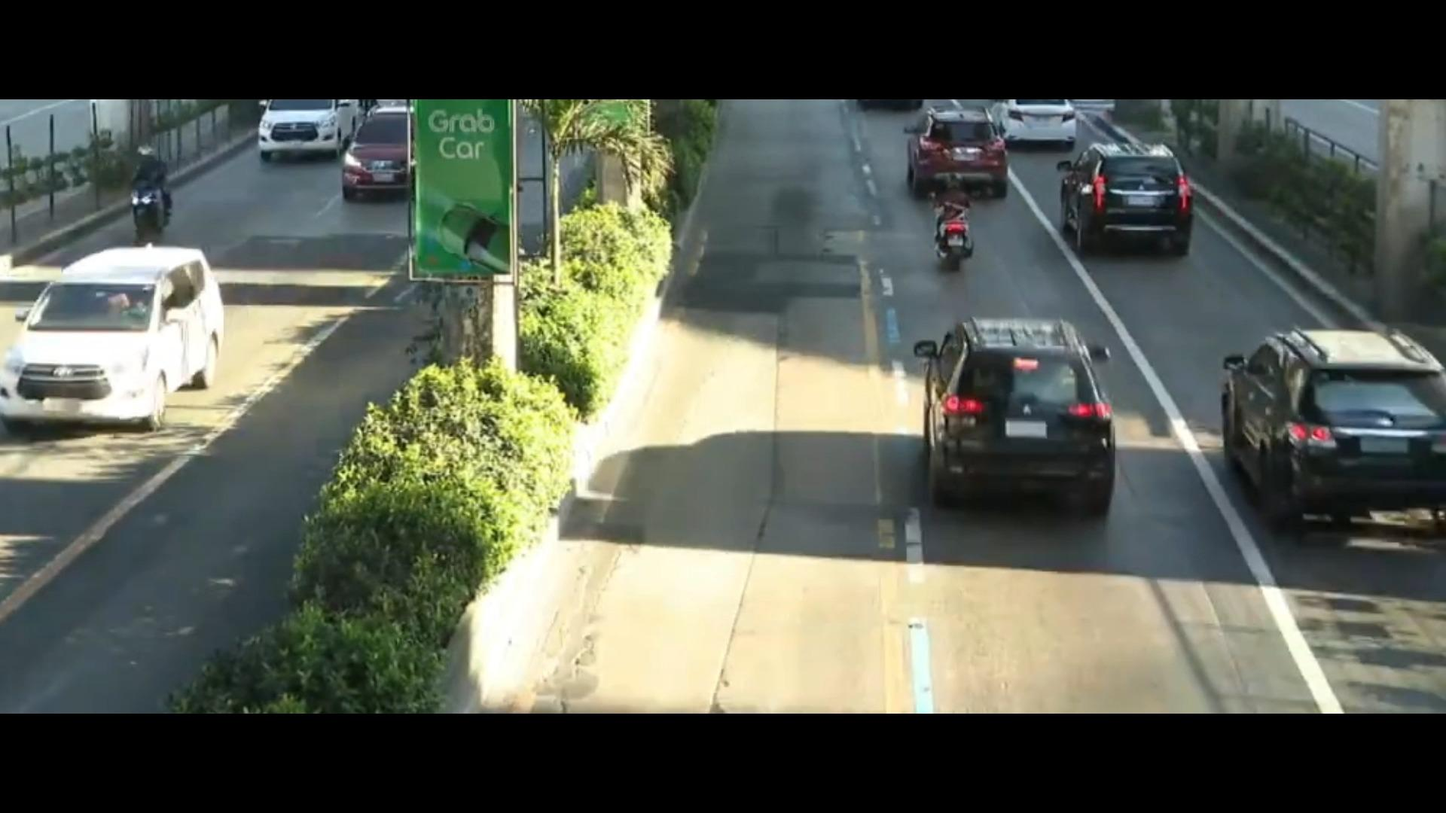Motorcycle: (109, 134, 189, 246), (912, 183, 994, 274)
SUV: (1198, 285, 1446, 559), (888, 281, 1147, 524), (0, 234, 255, 456), (1051, 130, 1224, 264), (889, 108, 1013, 188), (317, 110, 412, 207), (236, 99, 361, 155)
